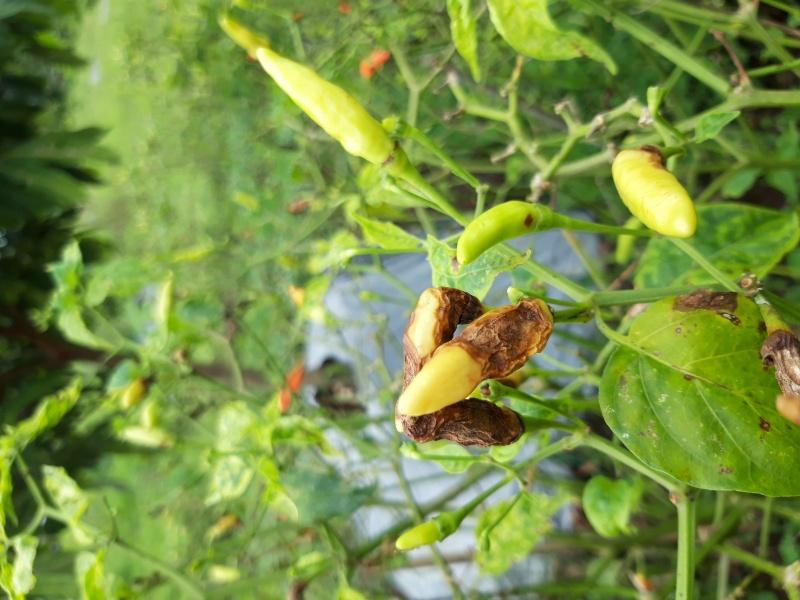antraknosa: (402, 297, 554, 413), (400, 285, 484, 389), (612, 148, 697, 238), (399, 398, 526, 447), (456, 200, 539, 267), (759, 332, 800, 426)
cabai_normal: (256, 45, 398, 164), (397, 519, 439, 548)
